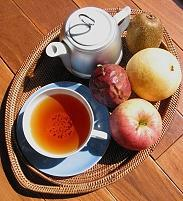apple: (111, 97, 164, 150)
